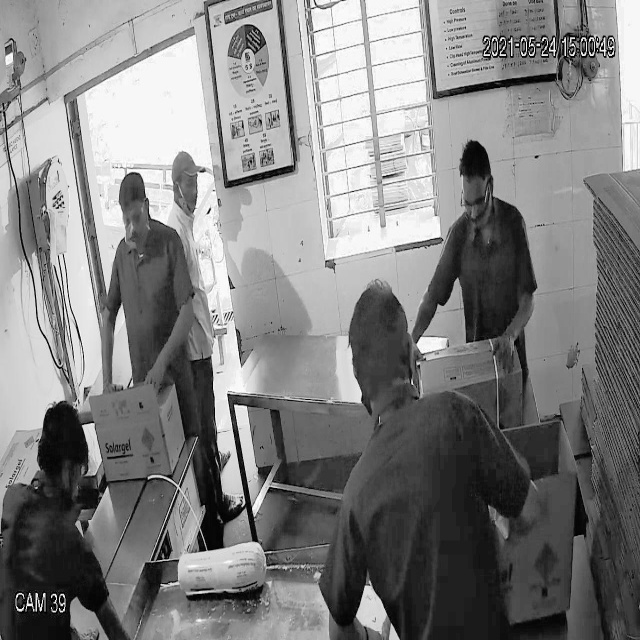Gafas: (117, 200, 149, 234)
